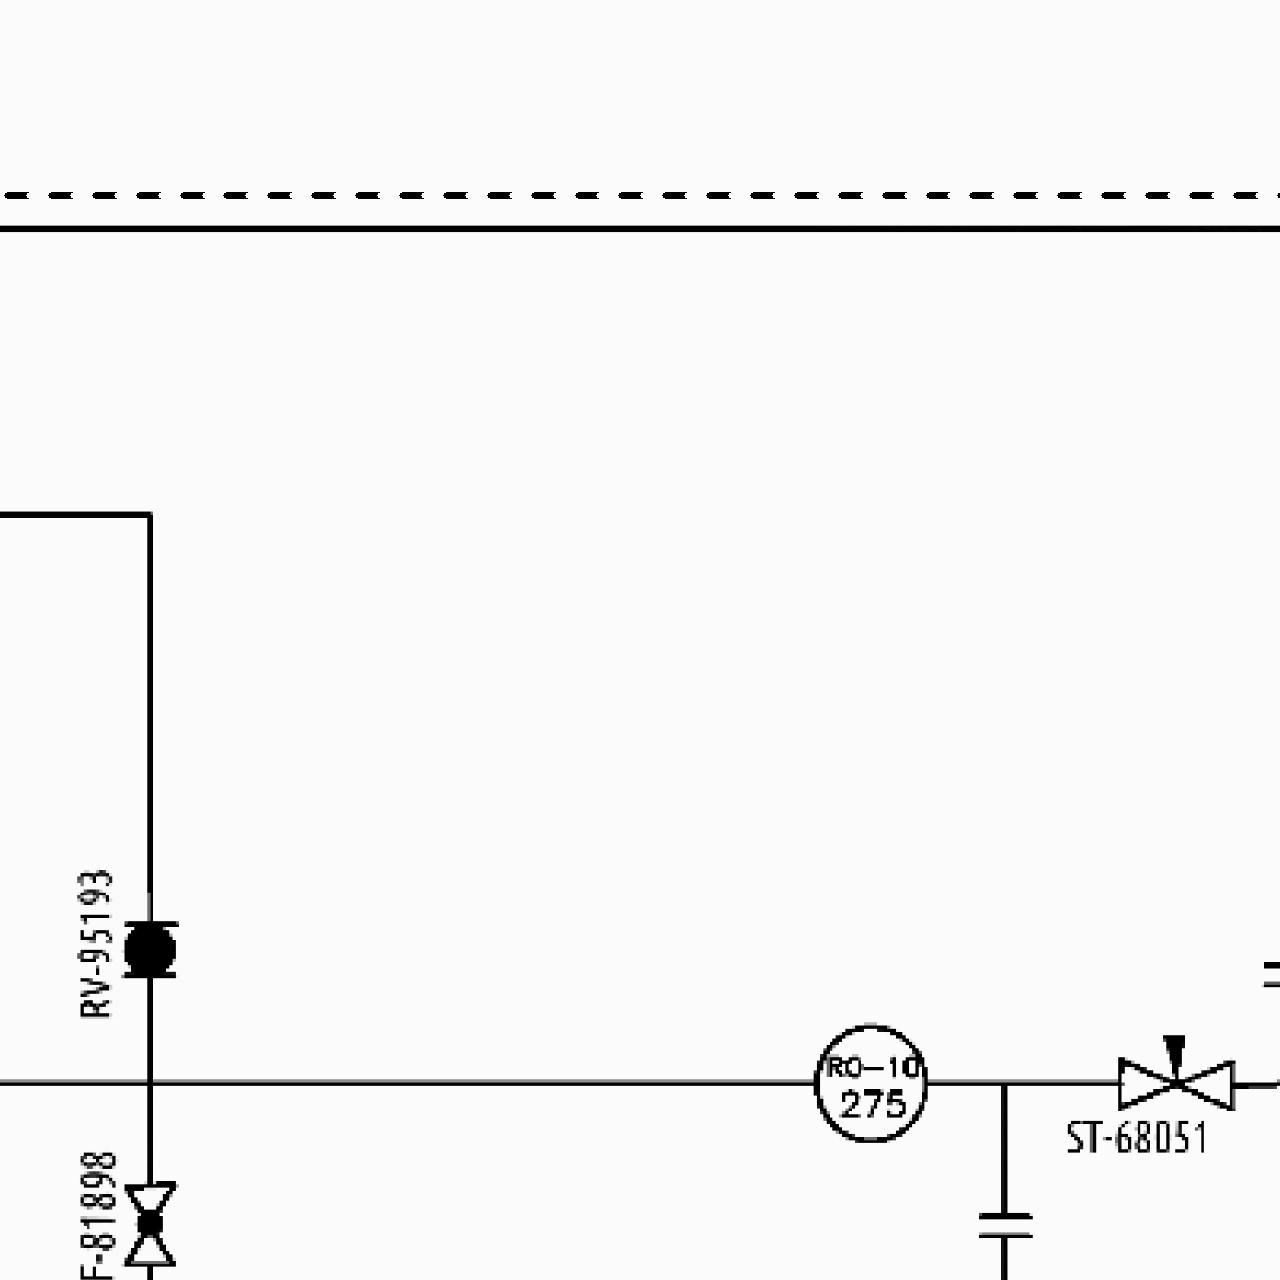Control-Panel: (806, 1019, 934, 1146)
